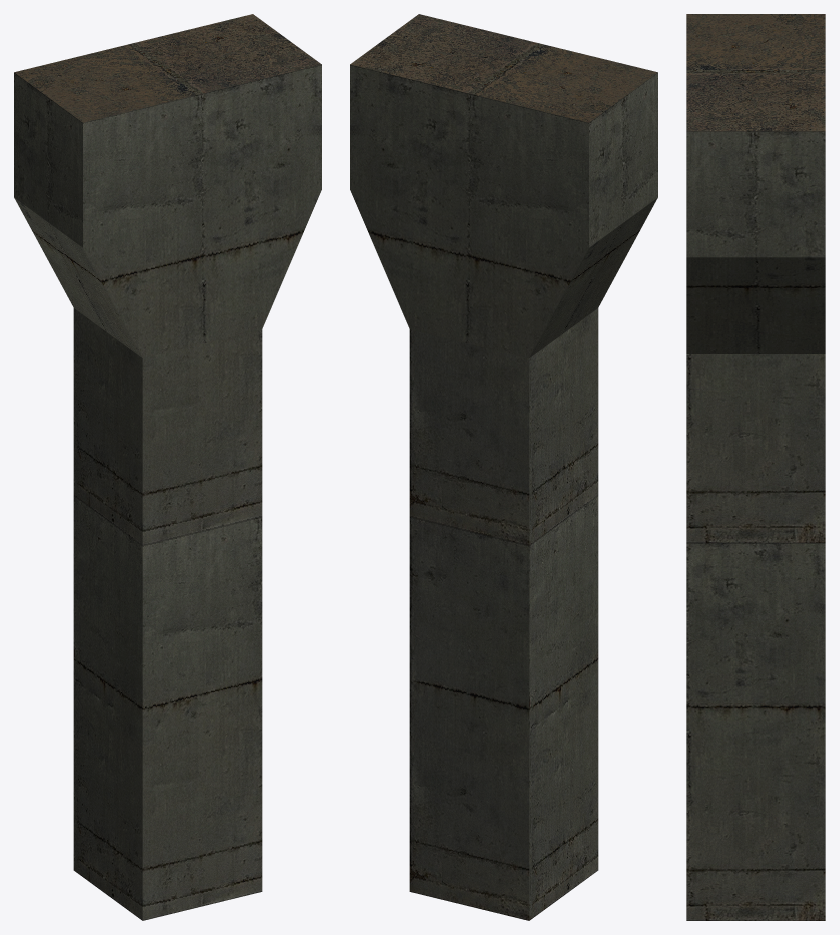
Rendered from pillar_rg_7.glb.
3 views of the same model, side by side, from view 1: azimuth 30°, elevation 25°; view 2: azimuth 150°, elevation 25°; view 3: azimuth 270°, elevation 25° (orthographic).
Visible parts, largest first — view 1: pillar_rg_7; view 2: pillar_rg_7; view 3: pillar_rg_7.
Part boxes in pixels (box(x1,y1,x2,y2)): pillar_rg_7: box(14, 14, 321, 920); pillar_rg_7: box(350, 14, 657, 920); pillar_rg_7: box(686, 14, 825, 920).
Size of the model in its own units: 2 by 6.5 by 1.
Materials: 2 (2 with a texture image).
